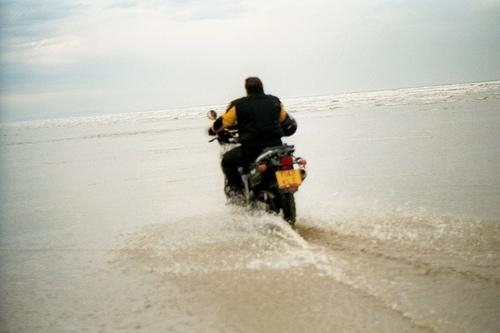motorcycle: (215, 122, 306, 228)
